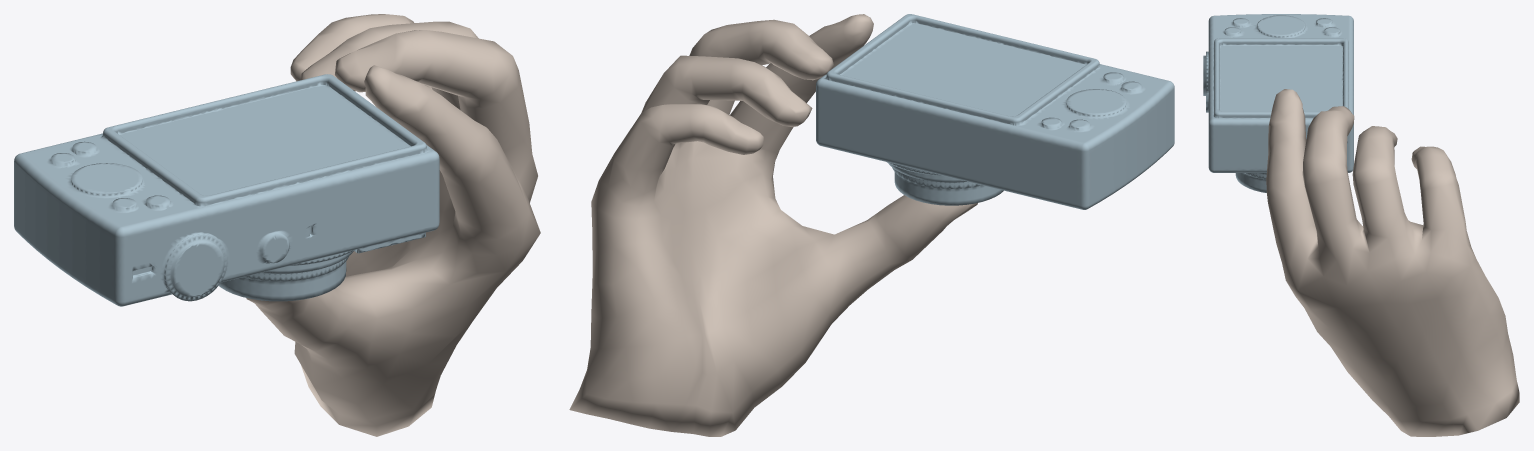
Rendered from ours_1.glb.
The picture shows the model from 3 angles, left to right: view 1: azimuth 30°, elevation 25°; view 2: azimuth 150°, elevation 25°; view 3: azimuth 270°, elevation 25°; orthographic projection. The views are drawn at different scales.
Bounding box in the file's own units: 0.1861 × 0.151 × 0.1418.
